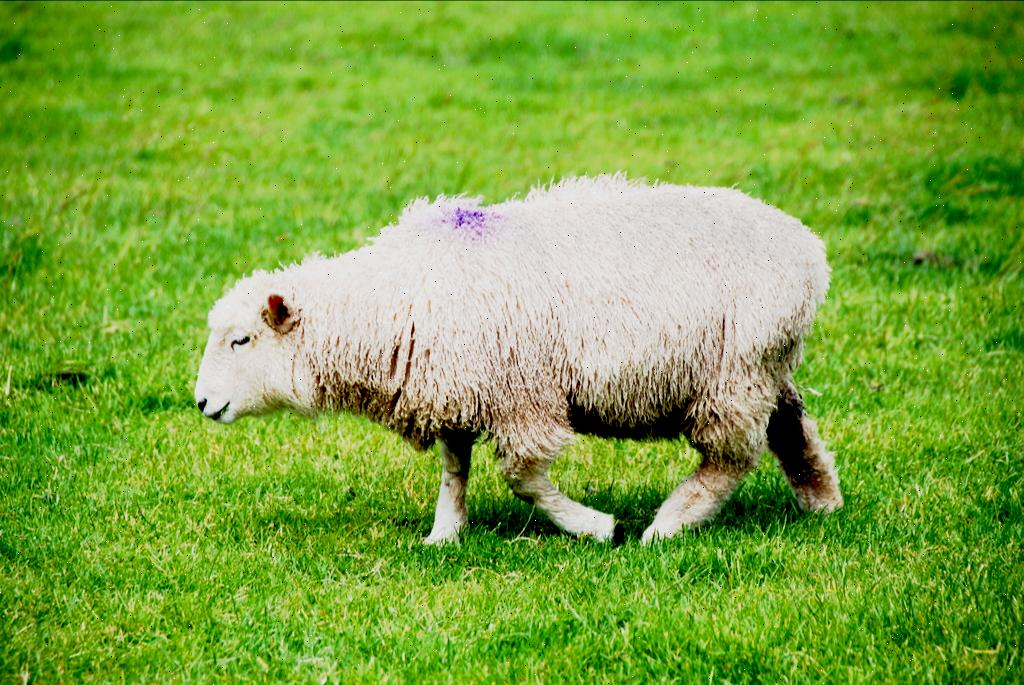Sheep: (198, 172, 830, 546)
